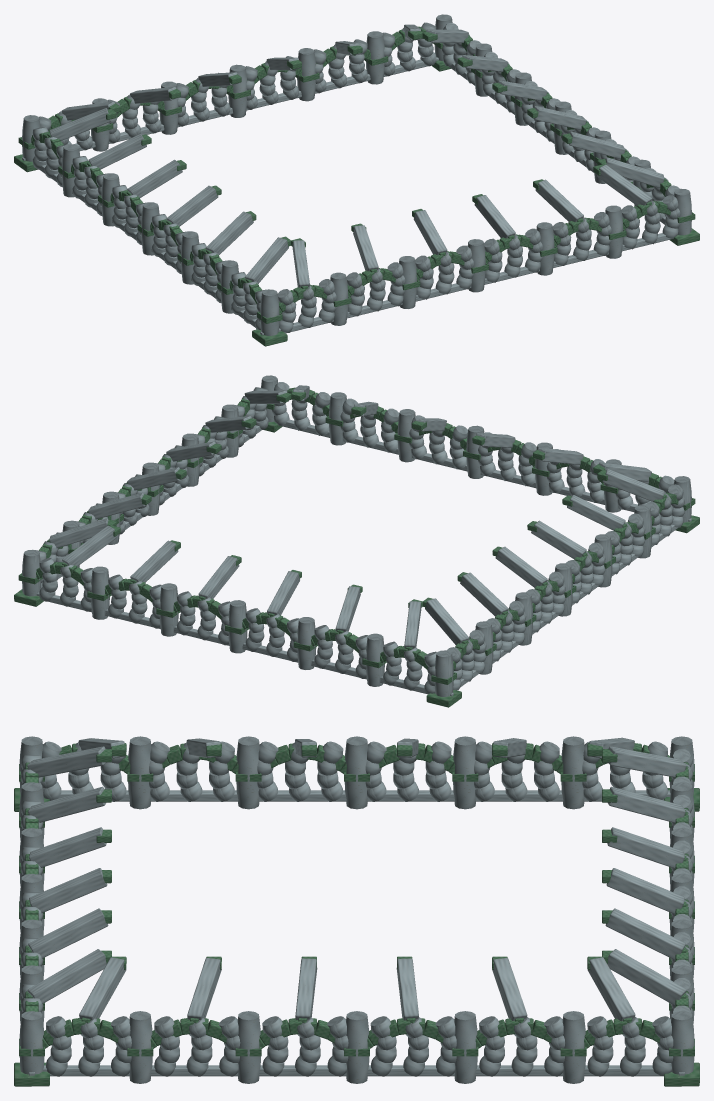
3 renders of one model, top to bottom at view 1: azimuth 30°, elevation 25°; view 2: azimuth 150°, elevation 25°; view 3: azimuth 270°, elevation 25°, orthographic. The views are drawn at different scales.
Visible parts, largest first — view 1: Crown petal 0-5, Crown petal 3-0, Crown petal 3-1, Crown petal 3-3, Crown petal 3-2, Crown petal 1-0, Crown petal 0-4, Crown petal 3-4, Crown petal 3-5, Crown petal 1-1, Tier 0 side 2 post 1, Crown petal 0-3 (+24 smaller); view 2: Crown petal 3-5, Crown petal 2-0, Crown petal 3-4, Crown petal 3-2, Crown petal 3-3, Crown petal 3-1, Crown petal 3-0, Crown petal 2-1, Crown petal 1-5, Tier 0 side 2 post 3, Tier 0 side 2 post 1, Tier 0 side 2 post 4 (+17 smaller); view 3: Crown petal 2-0, Crown petal 0-5, Crown petal 2-1, Crown petal 0-4, Crown petal 2-2, Crown petal 0-3, Crown petal 2-3, Tier 0 side 3 post 4, Tier 0 side 3 post 1, Tier 0 side 3 post 5, Tier 0 side 1 post 4, Tier 0 side 3 post 2 (+20 smaller).
Boxes of the visible parts, box(x1,y1,x2,y2) form: Crown petal 0-5: box(596, 164, 652, 205); Crown petal 3-0: box(49, 108, 111, 140); Crown petal 3-1: box(88, 134, 146, 169); Crown petal 3-3: box(166, 185, 218, 226); Crown petal 3-2: box(127, 159, 182, 197); Crown petal 1-0: box(605, 157, 664, 187); Crown petal 0-4: box(535, 179, 583, 221); Crown petal 3-4: box(206, 211, 253, 255); Crown petal 3-5: box(245, 237, 288, 283); Crown petal 1-1: box(569, 131, 625, 158); Tier 0 side 2 post 1: box(366, 31, 384, 84); Crown petal 0-3: box(474, 195, 515, 238); Crown petal 3-5: box(602, 469, 664, 501); Crown petal 2-0: box(62, 525, 117, 566); Crown petal 3-4: box(567, 495, 625, 530); Crown petal 3-2: box(495, 546, 547, 587); Crown petal 3-3: box(531, 520, 586, 558); Crown petal 3-1: box(460, 572, 508, 616); Crown petal 3-0: box(425, 598, 468, 644); Crown petal 2-1: box(130, 540, 178, 582); Crown petal 1-5: box(49, 518, 108, 548); Tier 0 side 2 post 3: box(228, 600, 247, 653); Tier 0 side 2 post 1: box(91, 566, 109, 619); Tier 0 side 2 post 4: box(297, 617, 316, 669); Crown petal 2-0: box(607, 949, 686, 1005); Crown petal 0-5: box(27, 949, 106, 1003); Crown petal 2-1: box(605, 908, 685, 959); Crown petal 0-4: box(28, 908, 108, 958); Crown petal 2-2: box(606, 868, 684, 914); Crown petal 0-3: box(29, 868, 107, 912); Crown petal 2-3: box(607, 827, 684, 868); Tier 0 side 3 post 4: box(236, 736, 259, 809); Tier 0 side 3 post 1: box(561, 736, 584, 809); Tier 0 side 3 post 5: box(128, 736, 151, 809); Tier 0 side 1 post 4: box(454, 1011, 477, 1083); Tier 0 side 3 post 2: box(453, 736, 476, 809).
Size of the model in its own units: 2.85 by 0.4208 by 2.85.
Materials: 2 (2 with a texture image).
